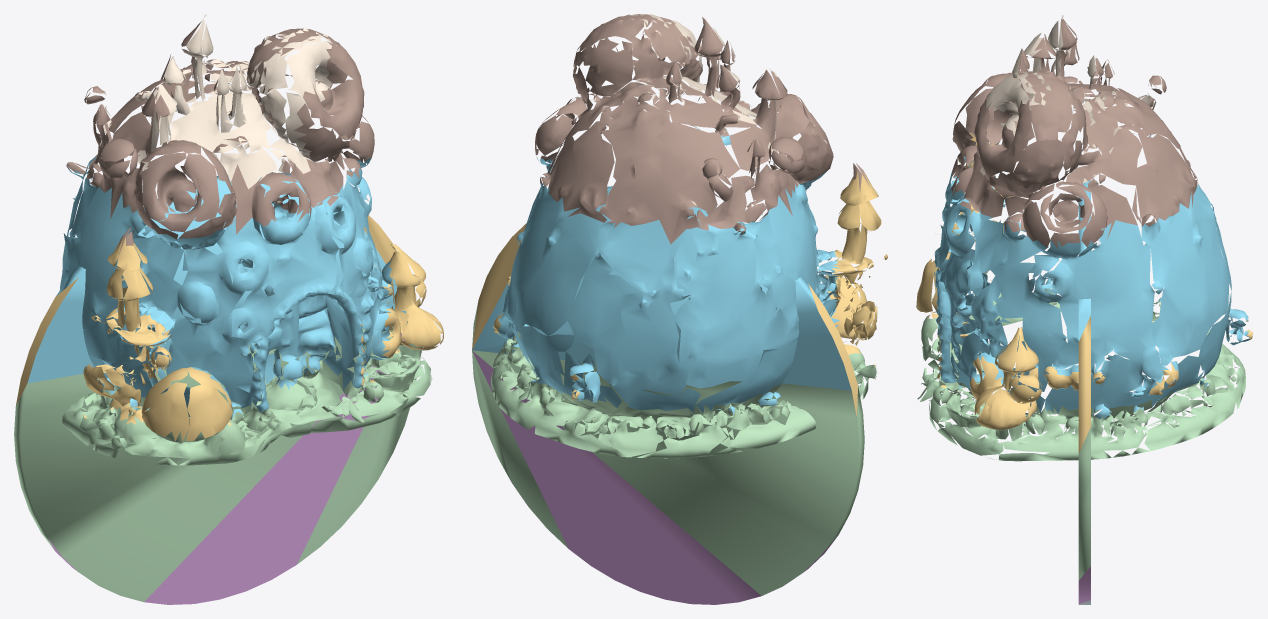
The model's file is statue_segmented.glb.
3 views of the same model, side by side, from view 1: azimuth 30°, elevation 25°; view 2: azimuth 150°, elevation 25°; view 3: azimuth 270°, elevation 25° (orthographic). The views are drawn at different scales.
Visible parts, largest first — view 1: Part_02_Thân, Part_03_Thân, Part_01_Tóc, Part_04_Tay, Part_05_Chân, Part_00_Đầu; view 2: Part_02_Thân, Part_03_Thân, Part_01_Tóc, Part_05_Chân, Part_04_Tay, Part_00_Đầu; view 3: Part_02_Thân, Part_01_Tóc, Part_03_Thân, Part_04_Tay, Part_00_Đầu.
Part boxes in pixels (x1,y1,x2,y2): Part_02_Thân: (27, 156, 406, 419); Part_03_Thân: (14, 321, 432, 601); Part_01_Tóc: (66, 21, 374, 254); Part_04_Tay: (16, 215, 443, 441); Part_05_Chân: (48, 333, 403, 604); Part_00_Đầu: (103, 14, 332, 202); Part_02_Thân: (472, 126, 851, 414); Part_03_Thân: (472, 302, 876, 595); Part_01_Tóc: (535, 14, 870, 244); Part_05_Chân: (472, 351, 837, 604); Part_04_Tay: (472, 170, 887, 415); Part_00_Đầu: (573, 14, 778, 205); Part_02_Thân: (934, 135, 1249, 419); Part_01_Tóc: (950, 15, 1197, 248); Part_03_Thân: (917, 288, 1245, 580); Part_04_Tay: (916, 132, 1252, 453); Part_00_Đầu: (977, 20, 1157, 184).
Size of the model in its own units: 1.75 by 2.5 by 1.36.
